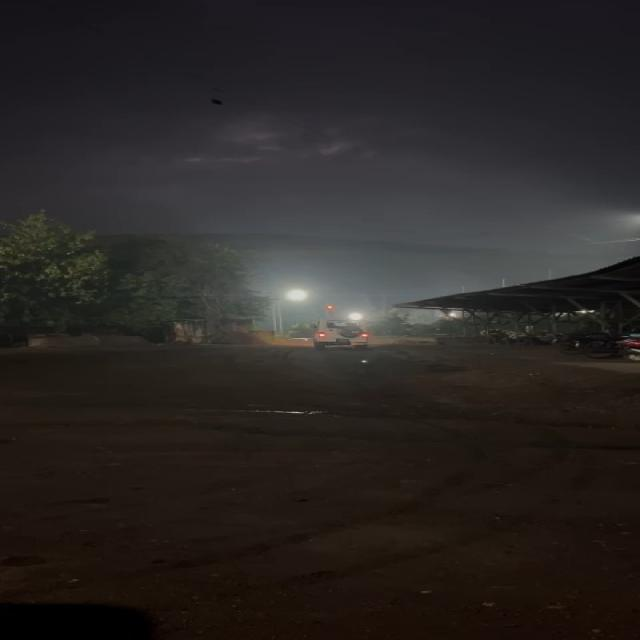light_vehicle: (319, 323, 371, 351)
